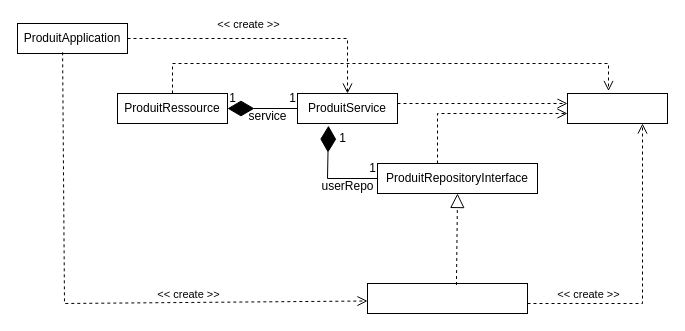
Image size: 685x331. Some labels were removed from this diagram. The centre of each missing label's shape, as x and y in pixels:
"Produit" goes at (x=617, y=108).
"ProduitRepositoryMariadb" goes at (x=447, y=298).
